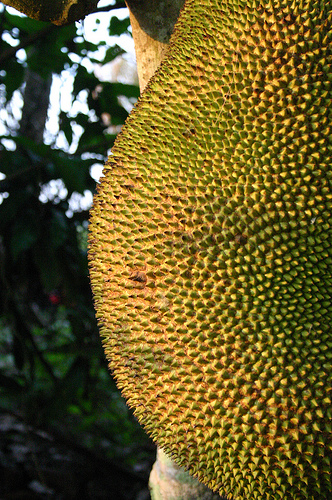jackfruit: (85, 0, 330, 498)
